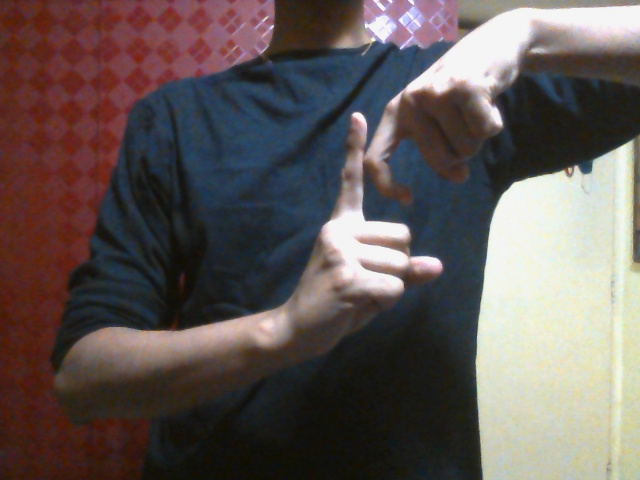K: (285, 82, 475, 328)
